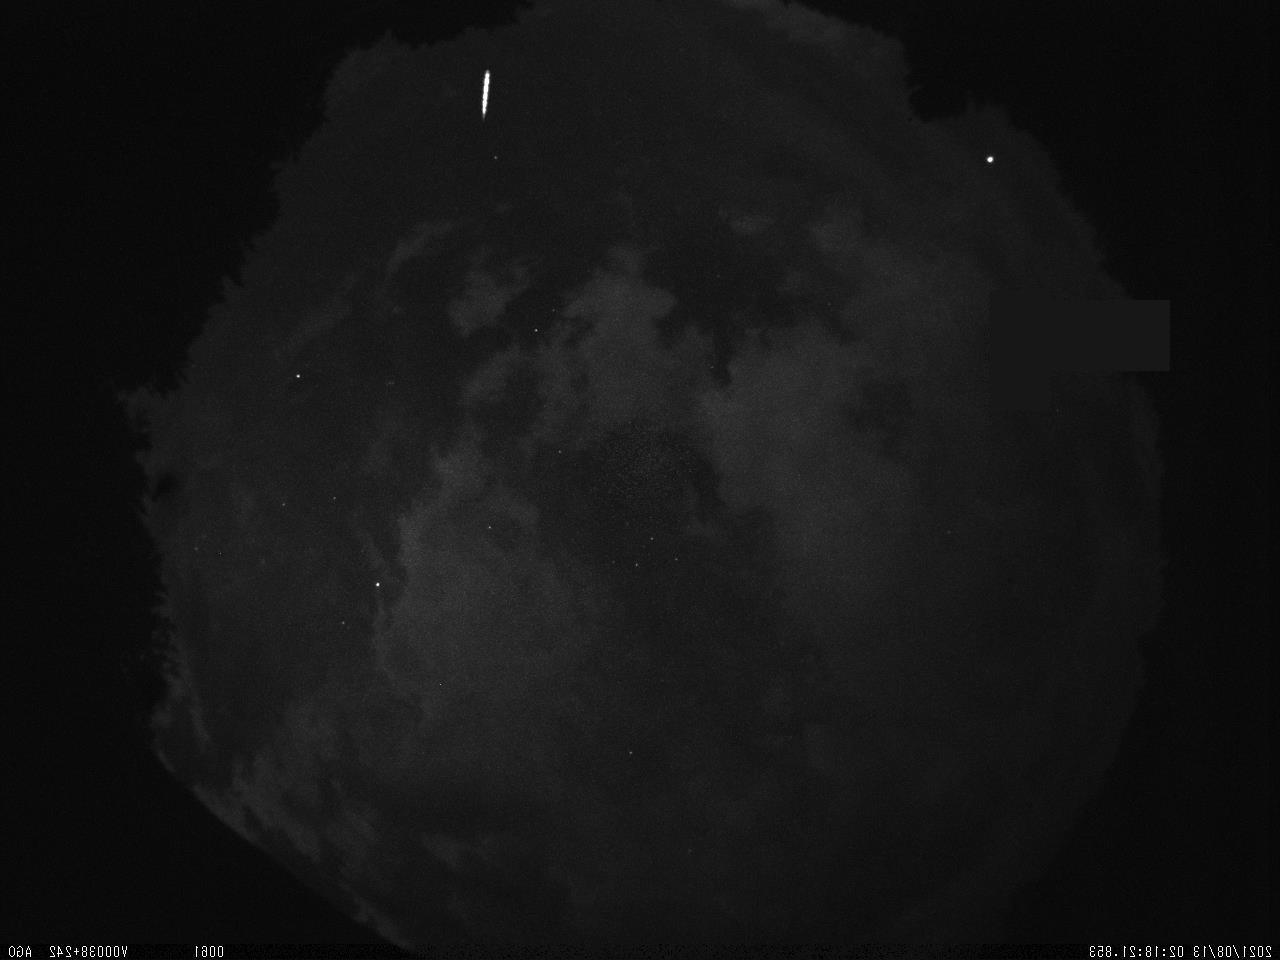meteor: (472, 63, 500, 123)
